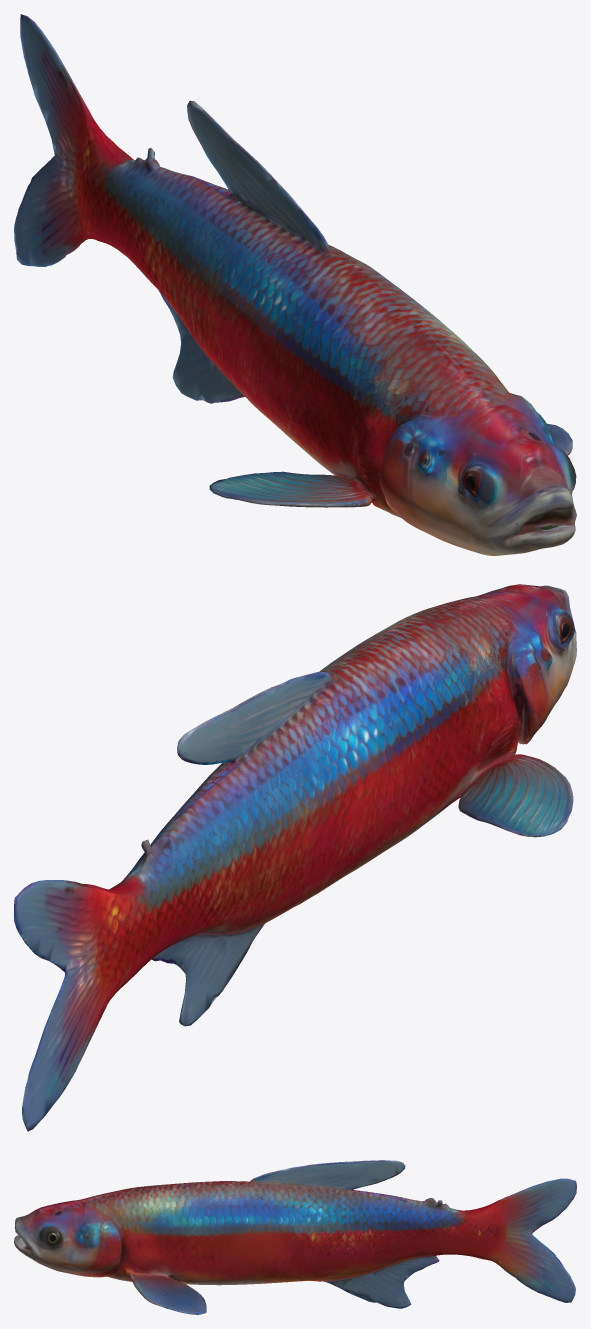
File: cardinal_0604070802_texture.glb
3 views of the same model, one above another, from view 1: azimuth 30°, elevation 25°; view 2: azimuth 150°, elevation 25°; view 3: azimuth 270°, elevation 25° (orthographic). The views are drawn at different scales.
Size of the model in its own units: 0.7309 by 0.5911 by 2.
Materials: 1 (1 with a texture image).
